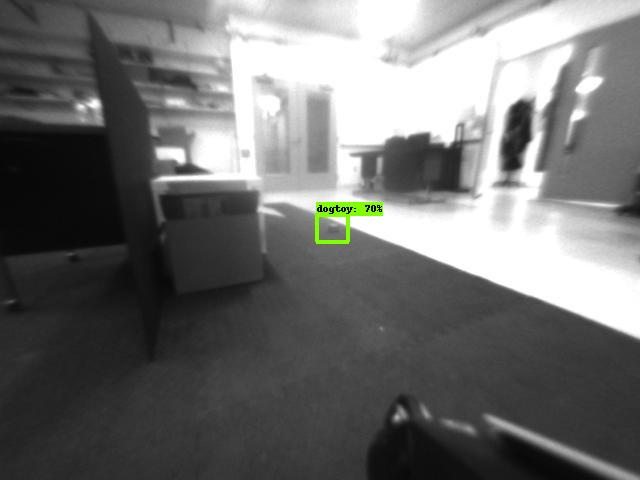dogtoy: (317, 217, 345, 237)
